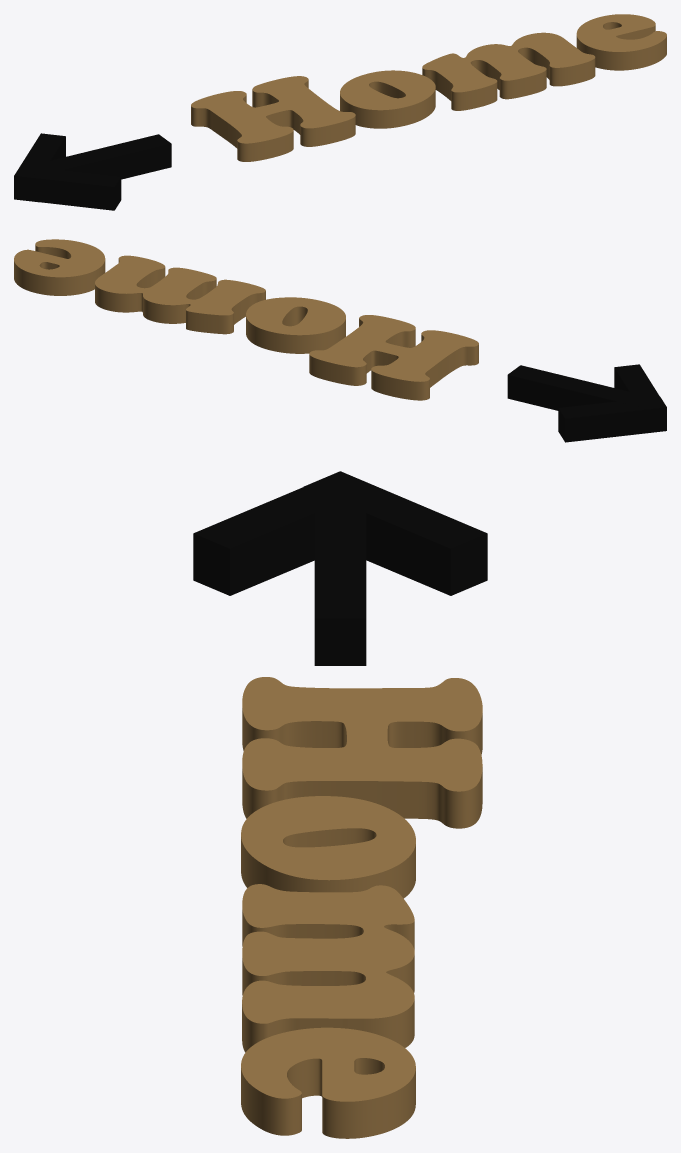
File: backhome.glb
The picture shows the model from 3 angles, top to bottom: view 1: azimuth 30°, elevation 25°; view 2: azimuth 150°, elevation 25°; view 3: azimuth 270°, elevation 25°; orthographic projection. The views are drawn at different scales.
Visible parts, largest first — view 1: Text, Cube.001; view 2: Text, Cube.001; view 3: Text, Cube.001.
Boxes of the visible parts, <box> form: Text: <box>191,14,666,161</box>; Cube.001: <box>14,133,171,210</box>; Text: <box>14,239,478,400</box>; Cube.001: <box>507,364,666,442</box>; Text: <box>241,677,482,1138</box>; Cube.001: <box>193,471,487,665</box>.
Bounding box in the file's own units: 3.62 × 0.1271 × 0.7197.
